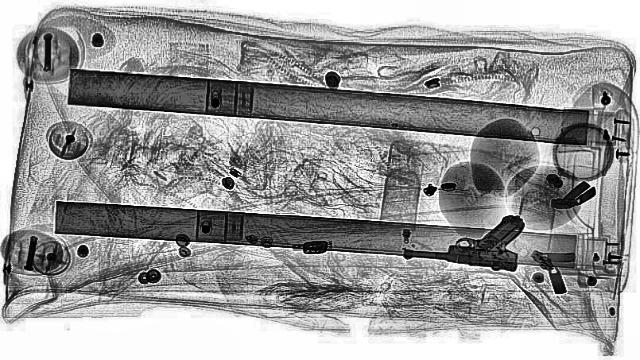Gun: (400, 209, 526, 270)
